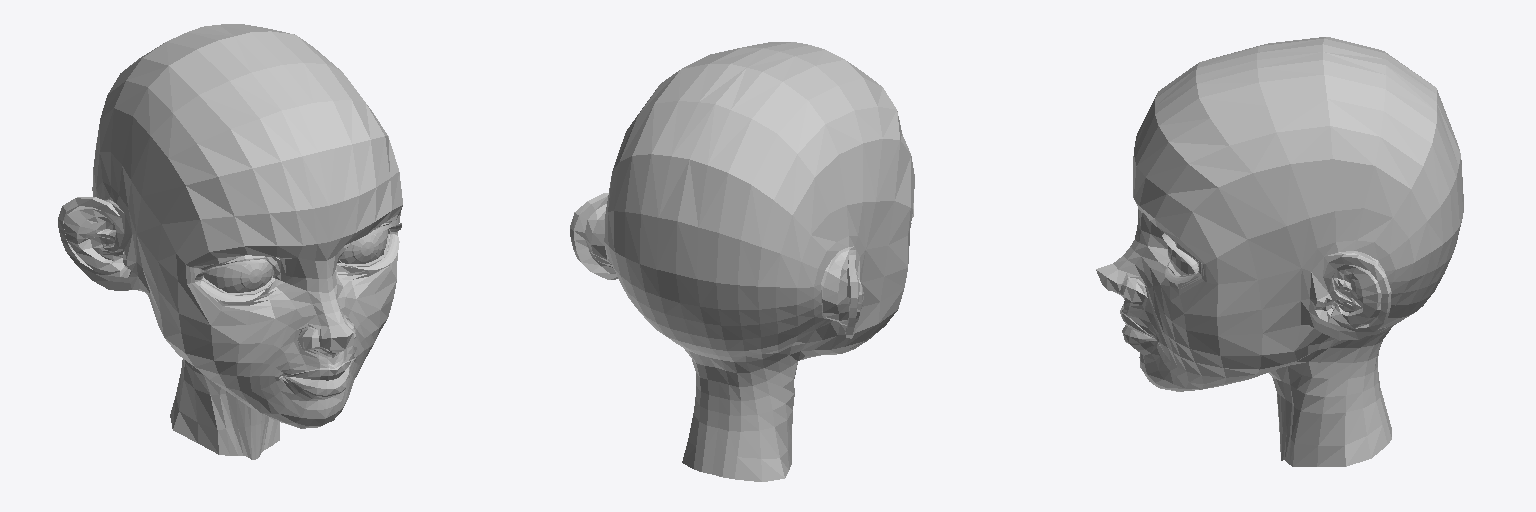
File: Girl_Textured_Low_002.obj
3 views of the same model, side by side, from view 1: azimuth 30°, elevation 25°; view 2: azimuth 150°, elevation 25°; view 3: azimuth 270°, elevation 25° (orthographic).
Parts seen in each view (by area): view 1: Girl_Face_Circle, Cornea_Sphere.001, EyeLashes_Circle.002; view 2: Girl_Face_Circle; view 3: Girl_Face_Circle, EyeLashes_Circle.002.
Boxes of the visible parts, x1=… form: Girl_Face_Circle: x1=58, y1=24, x2=402, y2=459; Cornea_Sphere.001: x1=204, y1=229, x2=387, y2=292; EyeLashes_Circle.002: x1=195, y1=223, x2=401, y2=301; Girl_Face_Circle: x1=570, y1=42, x2=914, y2=481; Girl_Face_Circle: x1=1096, y1=37, x2=1463, y2=466; EyeLashes_Circle.002: x1=1162, y1=233, x2=1198, y2=283.
Bounding box in the file's own units: 2.42 × 3.28 × 2.68.